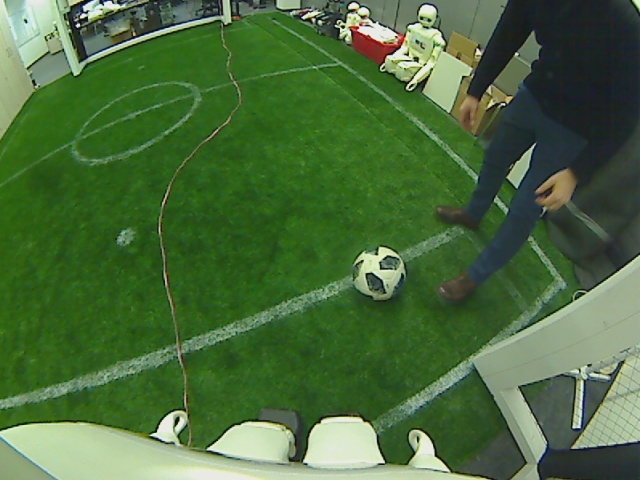ball: (348, 245, 407, 299)
